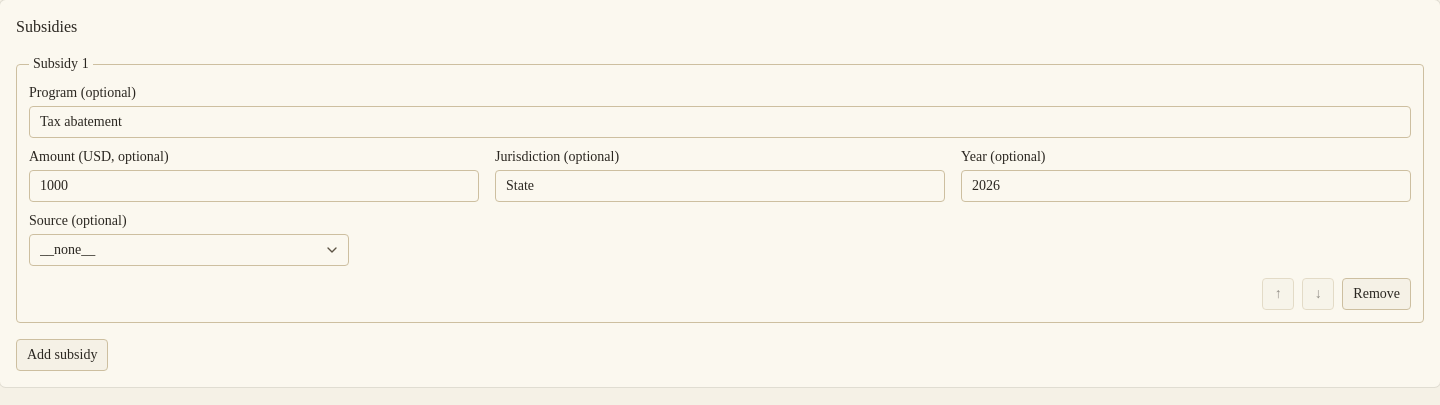
Test case: FacilitySubsidiesSection › passes the live sources array through to the sourceIndex picker
The image size is (1440, 405).
Step 1. Click the dropdown named "source" → (68, 250), box [29,234,349,266]
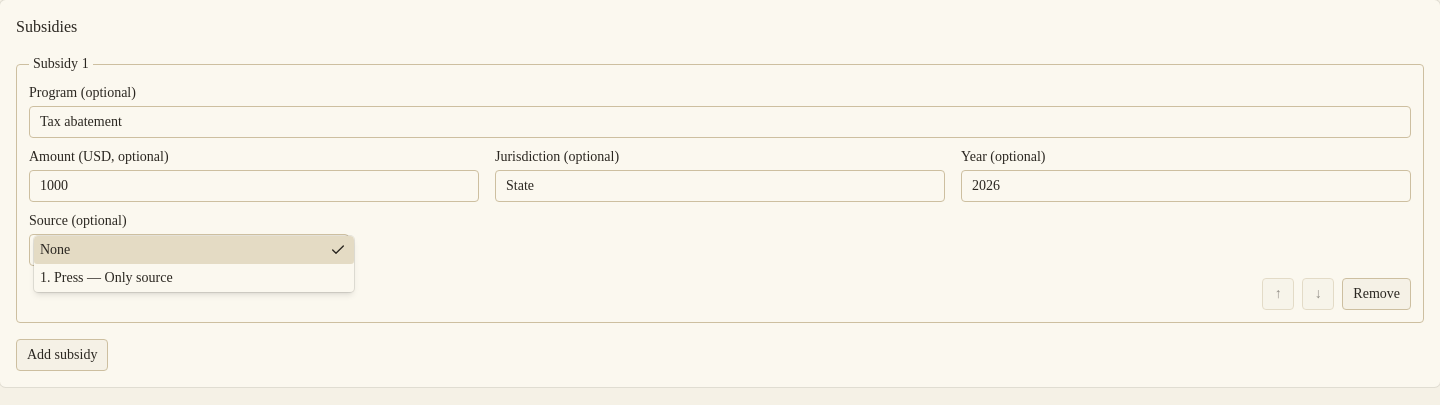
Expected: the option "1. Press — Only source" is shown, [40,270,173,285]
